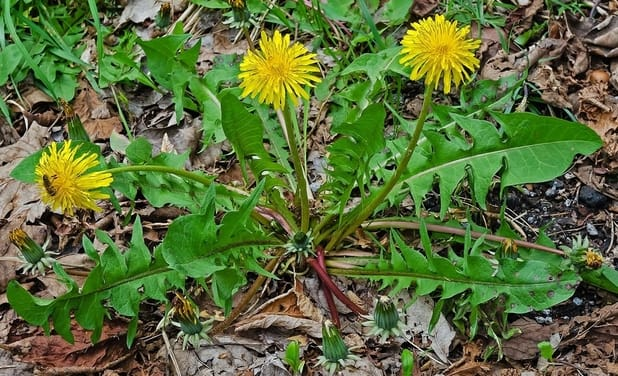begonvil: (395, 8, 485, 98), (230, 30, 325, 108), (33, 142, 119, 220)
